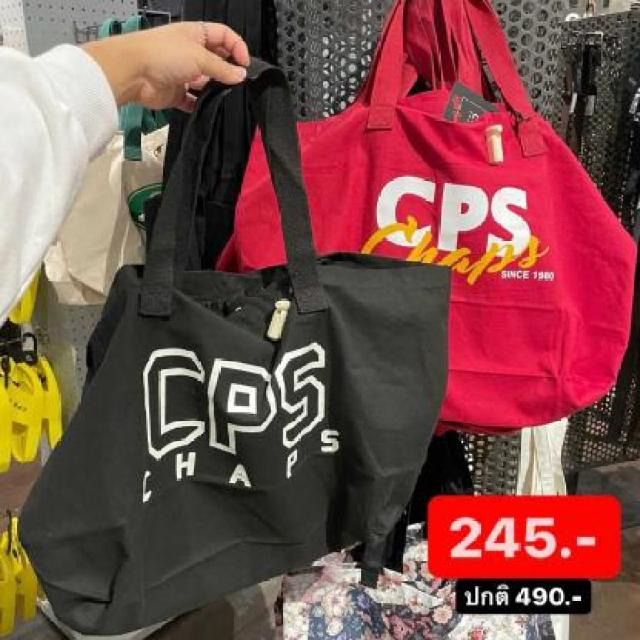Bag: (40, 49, 515, 640), (240, 0, 640, 445)
